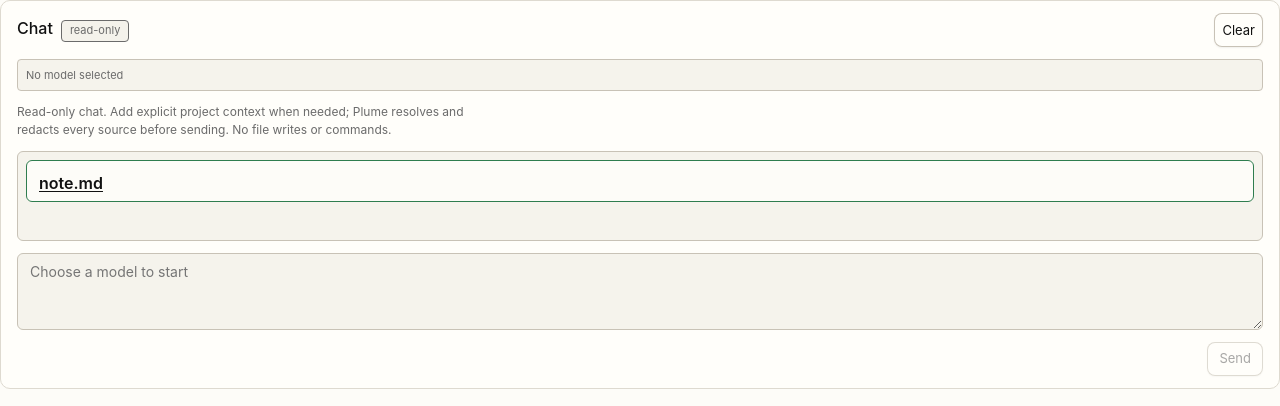
Test: ChatPanel › reports attachment re-export failures beside the attachment
Click the button "note.md" at {"x": 71, "y": 183}, box [39,173,1241,193]
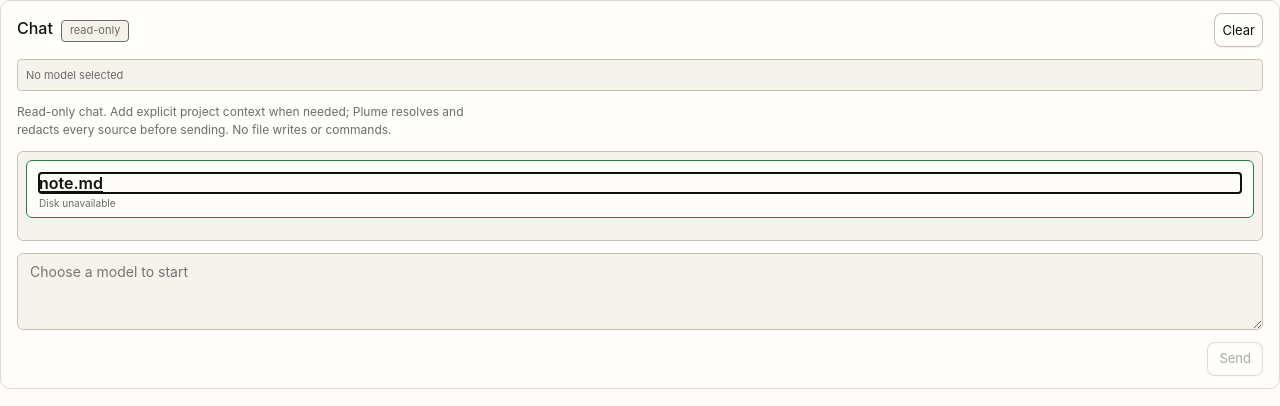
Expected: the message reads "Disk unavailable", [39,197,116,209]
